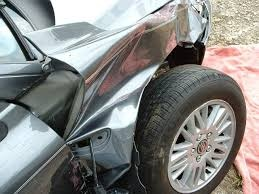Broken-glass: (190, 1, 214, 38)
Dent: (27, 4, 192, 193)
